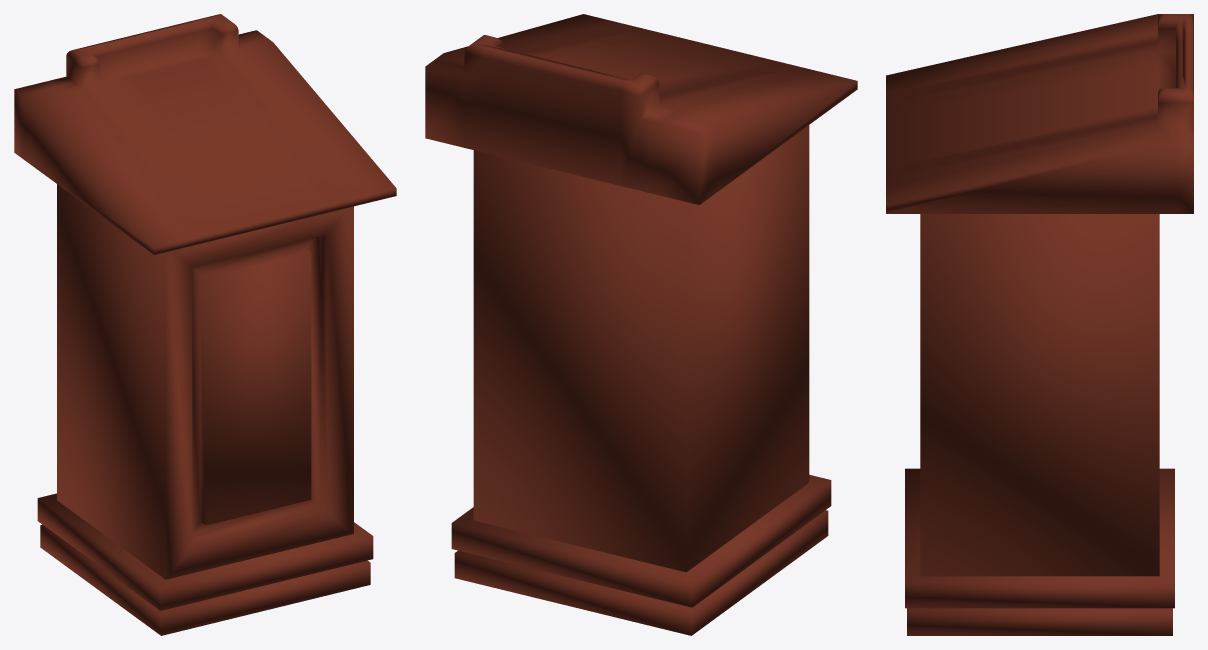
File: kürsü_.fbx
3 renders of one model, left to right at view 1: azimuth 30°, elevation 25°; view 2: azimuth 150°, elevation 25°; view 3: azimuth 270°, elevation 25°, orthographic. The views are drawn at different scales.
Parts seen in each view (by area): view 1: Plane.002; view 2: Plane.002; view 3: Plane.002.
Boxes of the visible parts, x1,y1,x2,y2 form: Plane.002: (14,14,396,635); Plane.002: (425,14,857,635); Plane.002: (886,14,1193,635).
Size of the model in its own units: 232 by 441 by 232.
